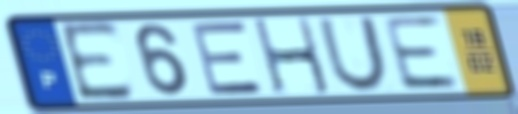6: (133, 21, 192, 98)
E: (55, 19, 139, 106), (378, 14, 464, 93), (187, 18, 268, 98)
H: (249, 15, 334, 97)
U: (315, 14, 392, 94)
